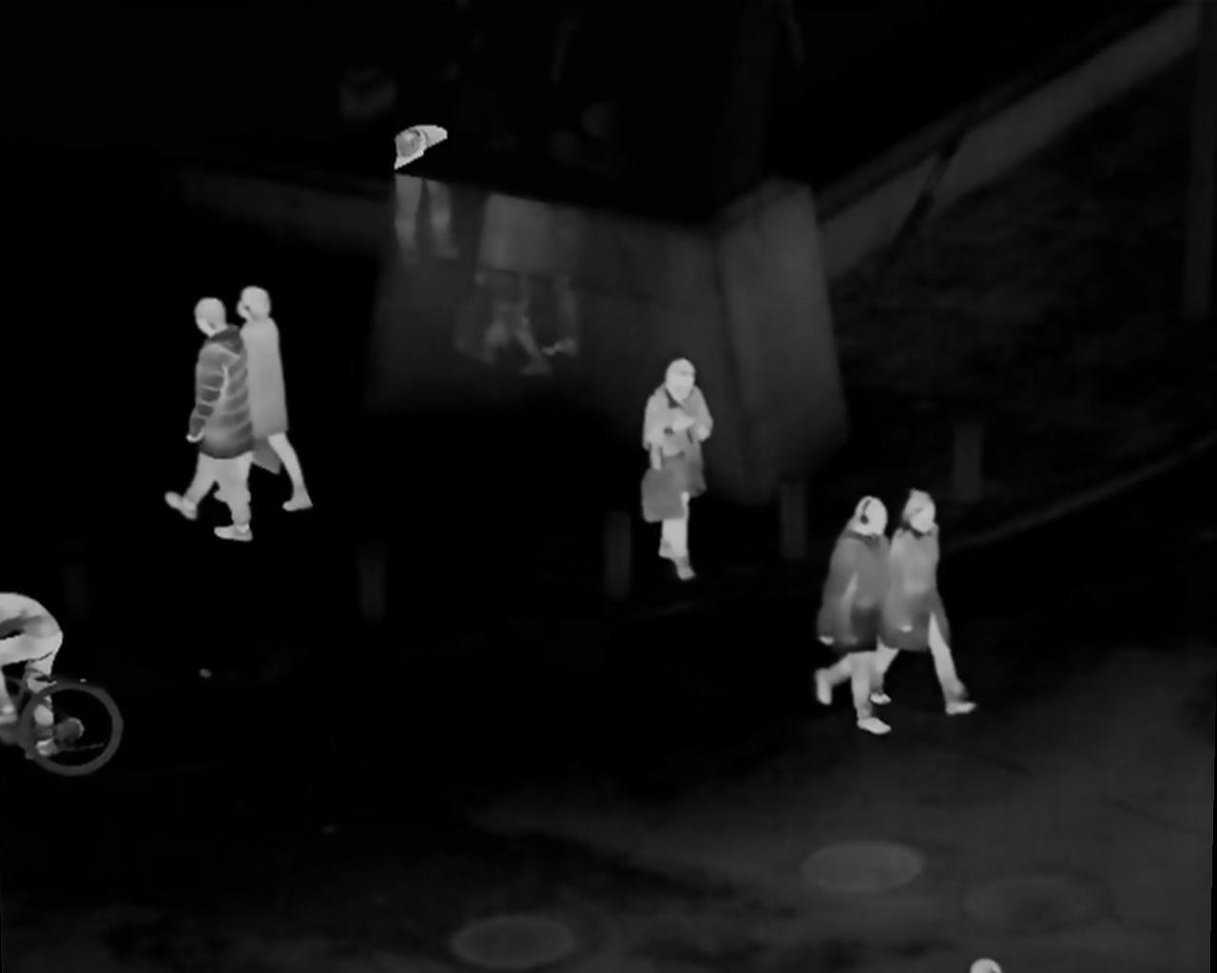person: (636, 350, 739, 571), (166, 291, 255, 531), (883, 490, 967, 716), (823, 503, 888, 715), (243, 286, 302, 515), (386, 118, 465, 270)
